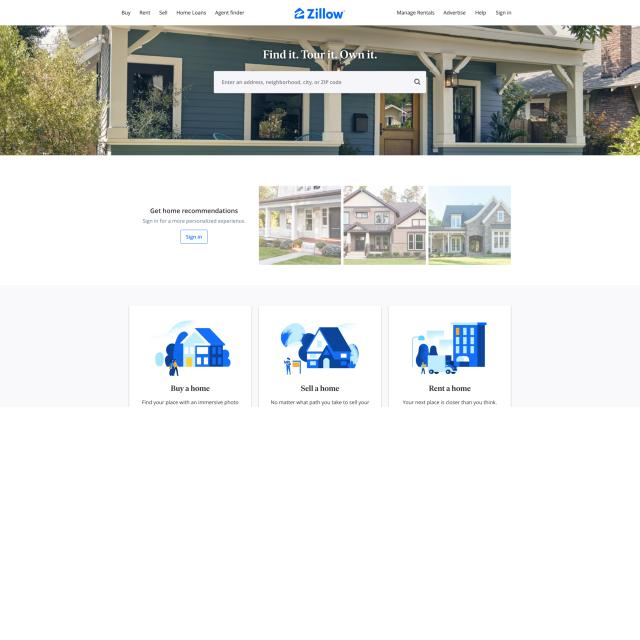input: (214, 70, 425, 92)
logo: (291, 4, 349, 22)
navigation: (117, 6, 249, 19), (394, 7, 515, 18)
